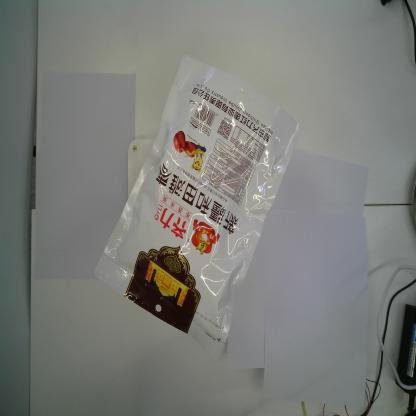Dried Food: (93, 55, 303, 362)
